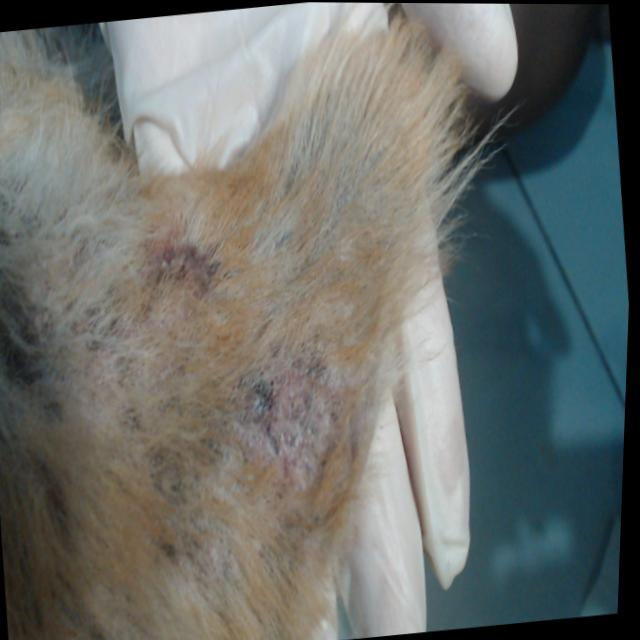demodicosis: (244, 367, 341, 487), (135, 227, 242, 311)
